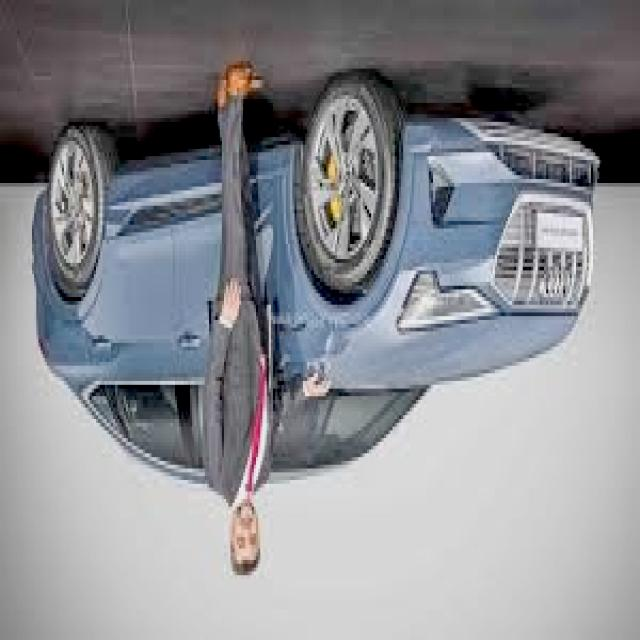blue: (33, 104, 596, 492)
